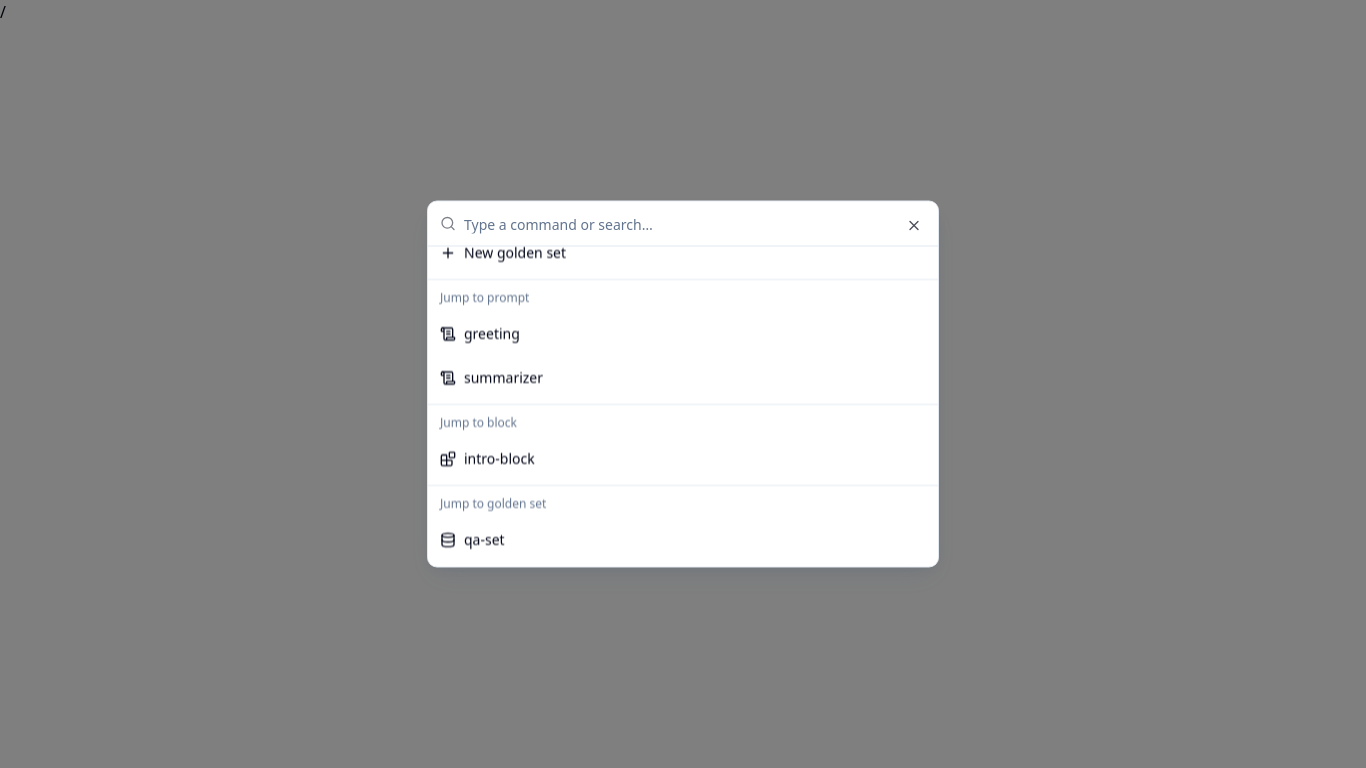
Test: CommandPalette › jumps to a golden-set edit page and closes
(page scrolled)
Click the option "qa-set" at (472, 540), box left=440, top=530, right=505, bottom=550
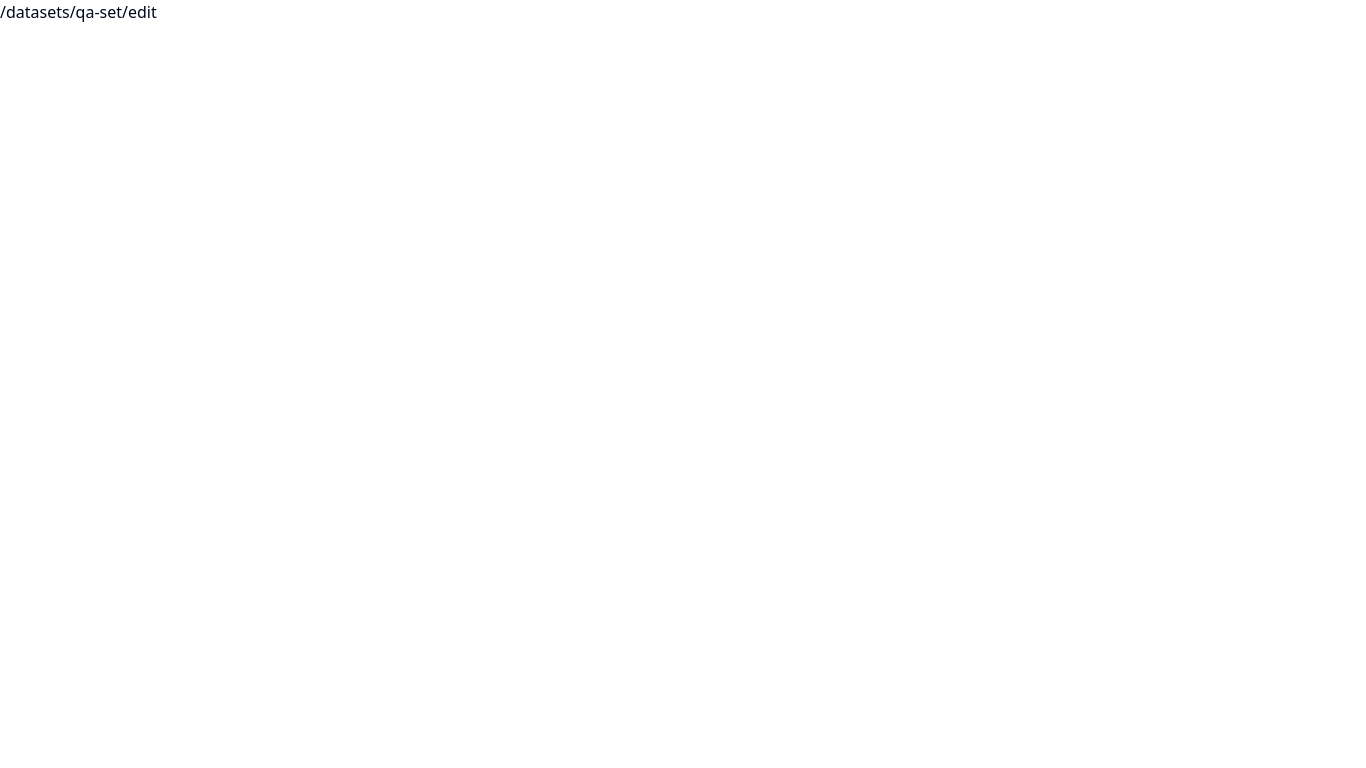
Now the text with test id "location" reads "/datasets/qa-set/edit", box left=0, top=1, right=157, bottom=23
